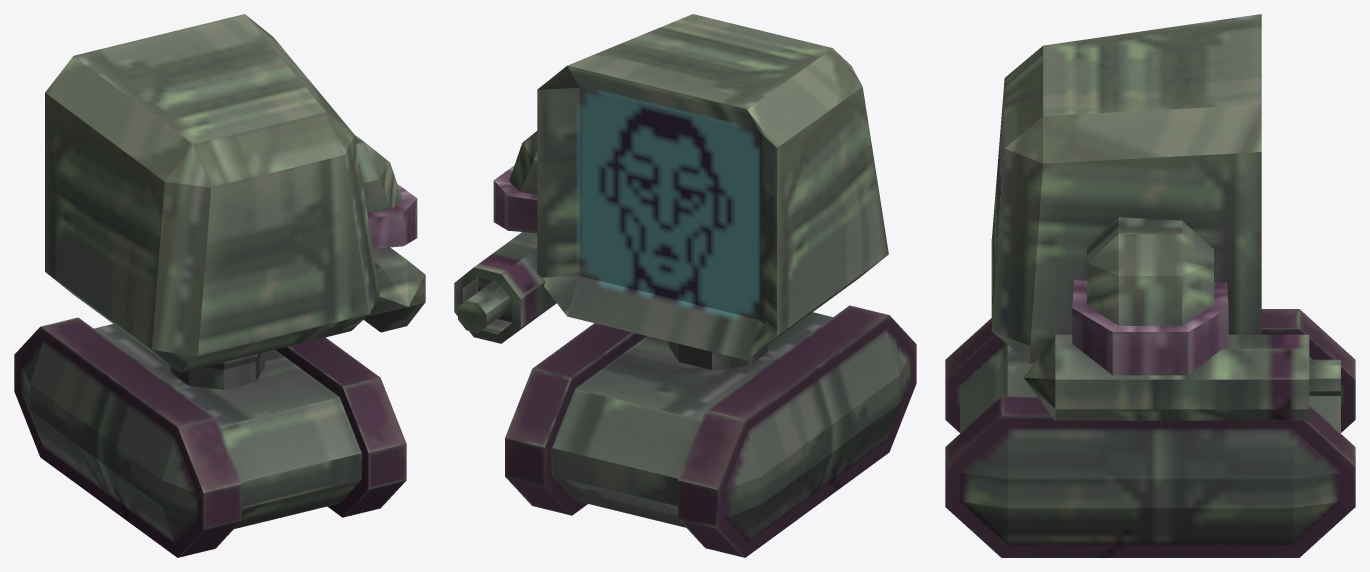
Rendered from enemy.obj.
3 renders of one model, left to right at view 1: azimuth 30°, elevation 25°; view 2: azimuth 150°, elevation 25°; view 3: azimuth 270°, elevation 25°, orthographic. The views are drawn at different scales.
Parts seen in each view (by area): view 1: beveled_cuboid, cylinder; view 2: beveled_cuboid, cylinder; view 3: beveled_cuboid, cylinder.
Part boxes in pixels (left/top/right/bottom): beveled_cuboid: left=14, top=14, right=417, bottom=557; cylinder: left=170, top=247, right=425, bottom=389; beveled_cuboid: left=493, top=14, right=916, bottom=557; cylinder: left=454, top=232, right=767, bottom=369; beveled_cuboid: left=945, top=14, right=1355, bottom=557; cylinder: left=1023, top=334, right=1340, bottom=420.
Size of the model in its own units: 1.5 by 1.93 by 1.62.
Materials: 1 (1 with a texture image).
